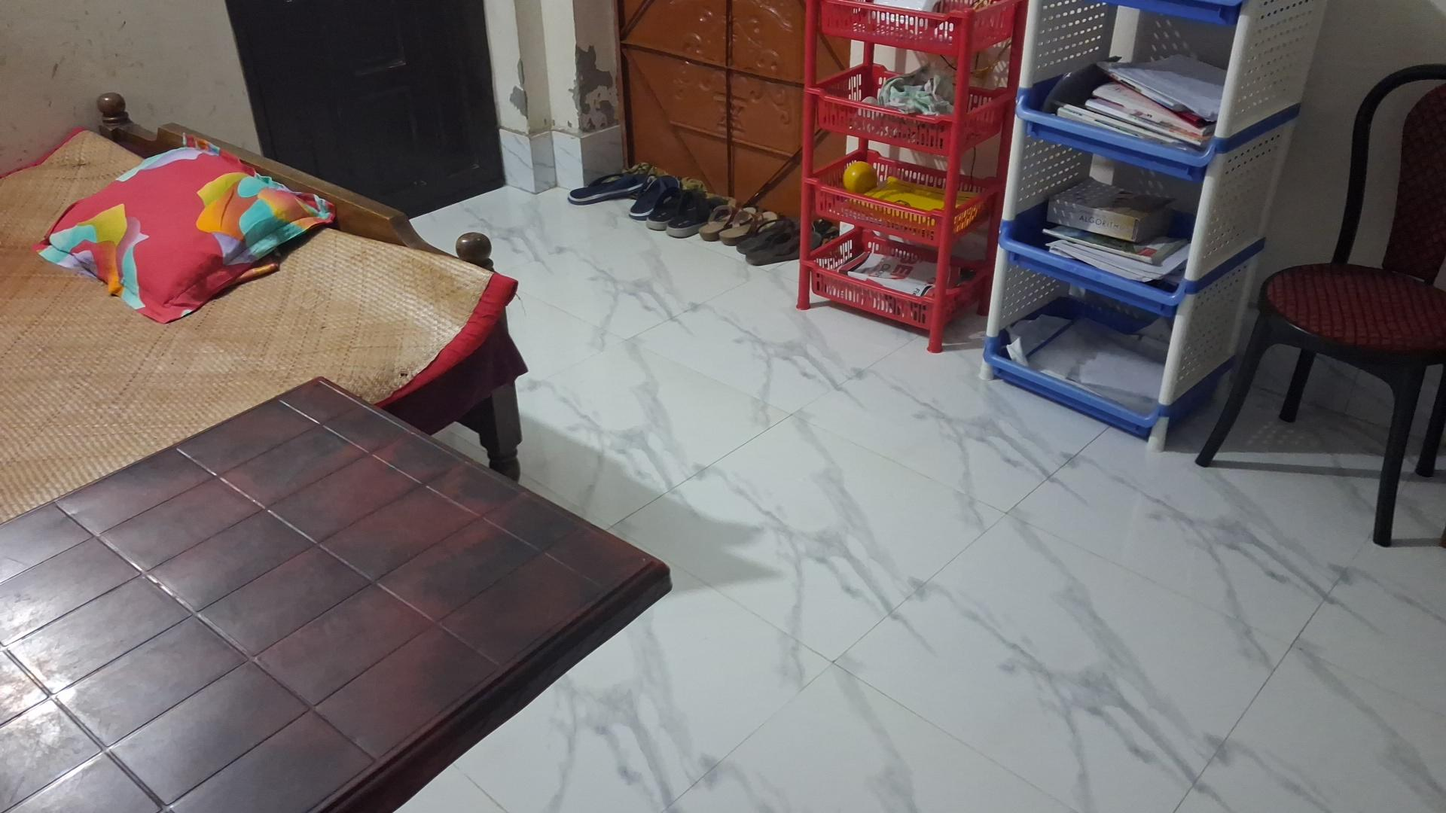Book: (1044, 176, 1175, 242)
Chair: (1194, 64, 1445, 549)
Footwear: (567, 167, 680, 214), (644, 192, 723, 234), (736, 226, 820, 264), (700, 205, 780, 243)
Pillow: (27, 152, 337, 322)
Rack: (984, 5, 1321, 502), (794, 2, 1023, 350)
Table: (0, 379, 669, 813)
